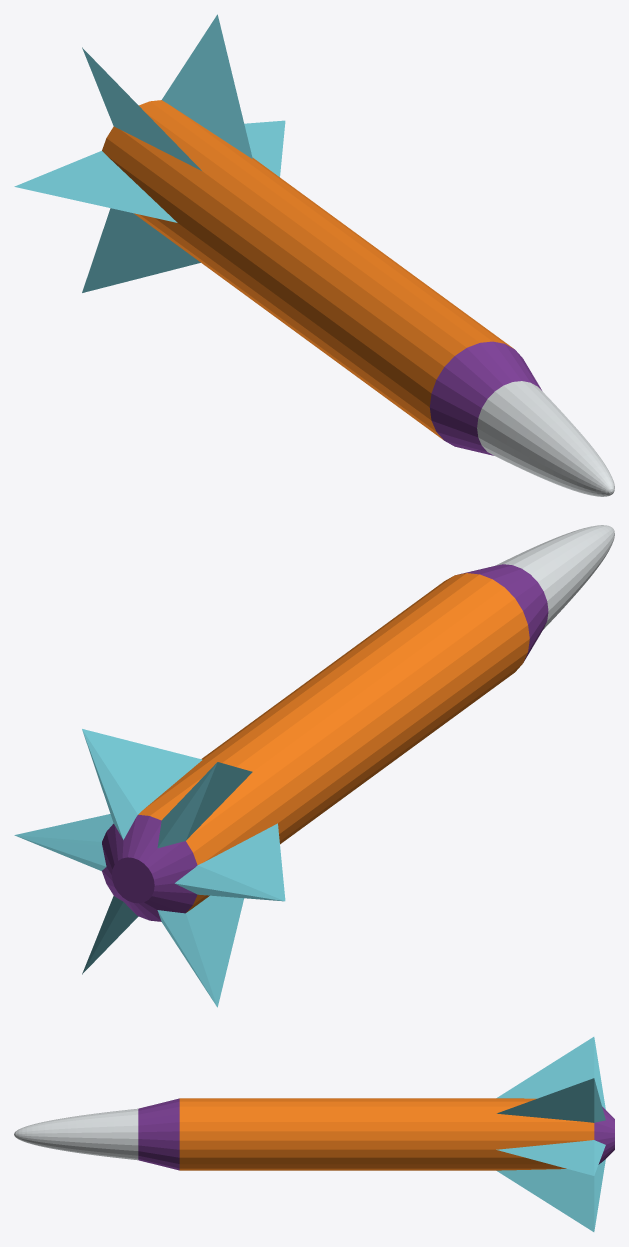
Rendered from tinker.obj.
3 views of the same model, one above another, from view 1: azimuth 30°, elevation 25°; view 2: azimuth 150°, elevation 25°; view 3: azimuth 270°, elevation 25° (orthographic). The views are drawn at different scales.
Visible parts, largest first — view 1: group_0_16089887, group_0_7720667, group_0_14541540, group_0_8273816; view 2: group_0_16089887, group_0_7720667, group_0_8273816, group_0_14541540; view 3: group_0_16089887, group_0_7720667, group_0_14541540, group_0_8273816.
Part boxes in pixels (x1,y1,x2,y2): group_0_16089887: [102, 100, 513, 439]; group_0_7720667: [14, 14, 285, 292]; group_0_14541540: [477, 381, 614, 496]; group_0_8273816: [429, 341, 541, 455]; group_0_16089887: [138, 573, 529, 912]; group_0_7720667: [14, 729, 285, 1007]; group_0_8273816: [102, 564, 548, 921]; group_0_14541540: [496, 525, 614, 629]; group_0_16089887: [179, 1098, 594, 1170]; group_0_7720667: [496, 1037, 605, 1231]; group_0_14541540: [14, 1108, 138, 1160]; group_0_8273816: [138, 1098, 614, 1170].
Bounding box in the file's own units: 38 × 32.91 × 116.
